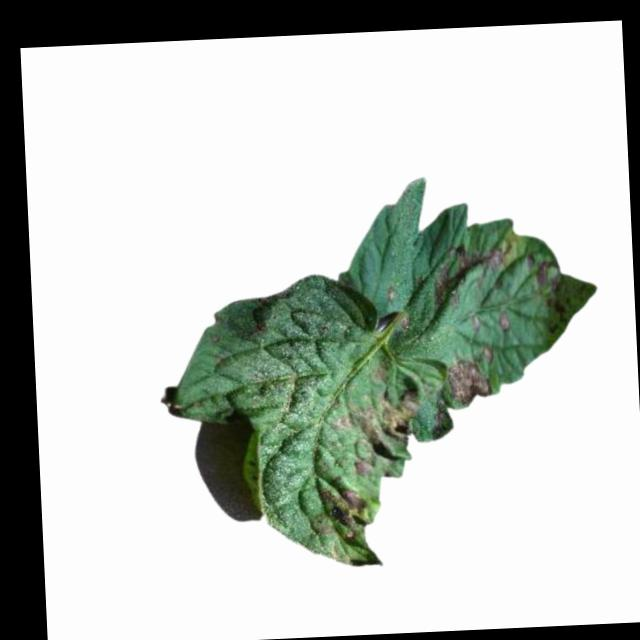Early_blight: (330, 389, 423, 463), (429, 238, 516, 311), (322, 487, 367, 552), (443, 357, 492, 409), (525, 253, 551, 290), (495, 310, 513, 335), (353, 458, 369, 478)
